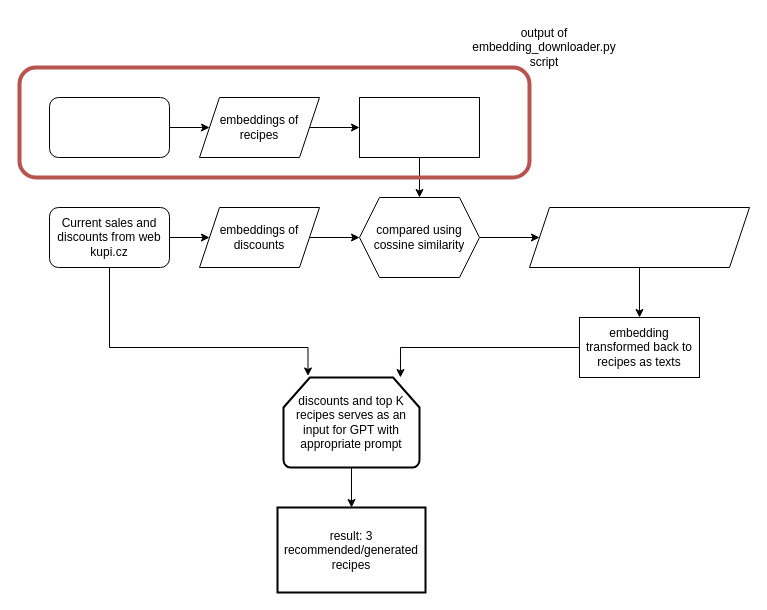
Image size: 767x610. Some labels were removed from this diagram. Here are the shapes that lost their labels. From the top down, the centre of each, then its label:
At (109,127): "Recipes from kupi.cz downloaded before".
At (419,127): "saved locally in the folder recipes_embeddings (precomputed)".
At (639,237): "top K matches (most fitting recipes embeddings) - this can be set by user".
